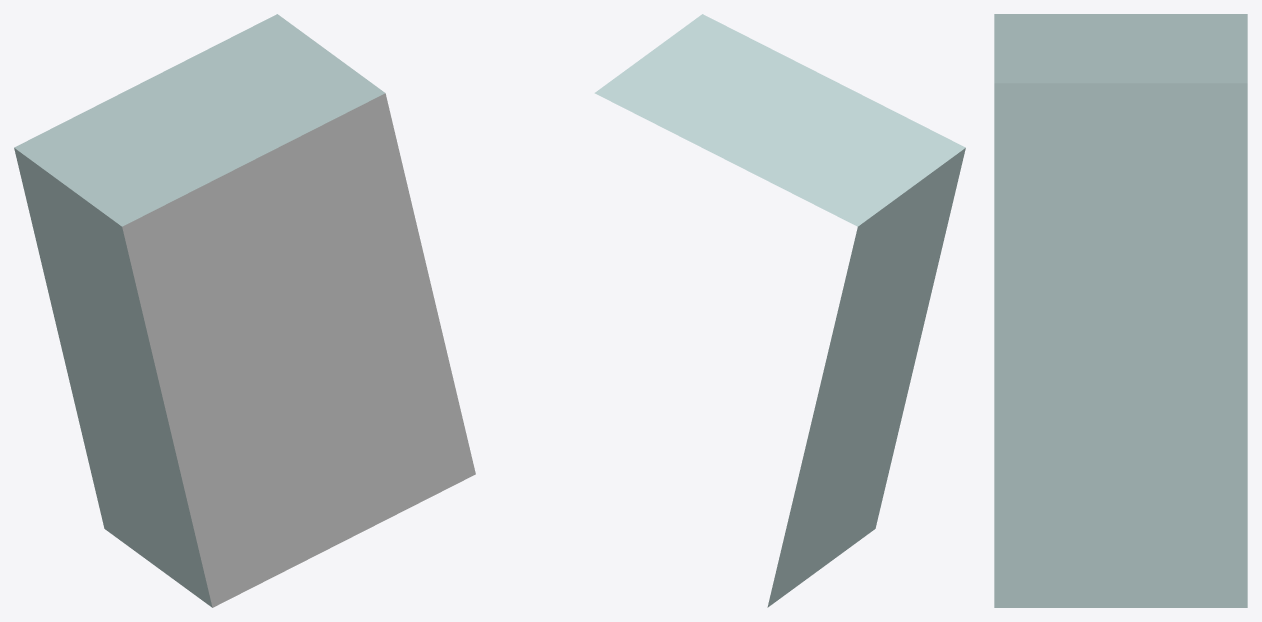
3 views of the same model, side by side, from view 1: azimuth 30°, elevation 25°; view 2: azimuth 150°, elevation 25°; view 3: azimuth 270°, elevation 25° (orthographic). The views are drawn at different scales.
Parts seen in each view (by area): view 1: 0_2_2_3_2_1_0_0_0; view 2: 0_2_2_3_2_1_0_0_0; view 3: 0_2_2_3_2_1_0_0_0.
Boxes of the visible parts, left/top/right/bottom form: 0_2_2_3_2_1_0_0_0: left=14, top=14, right=475, bottom=607; 0_2_2_3_2_1_0_0_0: left=594, top=14, right=965, bottom=607; 0_2_2_3_2_1_0_0_0: left=994, top=14, right=1247, bottom=607.
Size of the model in its own units: 5.67 by 7.23 by 3.
